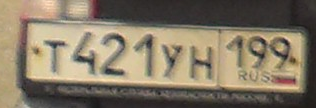character: (99, 31, 128, 77), (71, 30, 96, 77), (187, 41, 214, 83), (133, 32, 155, 82), (42, 34, 65, 75), (246, 34, 268, 71), (268, 36, 291, 70), (161, 44, 182, 81), (226, 34, 245, 68)
